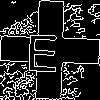E: (25, 25, 60, 72)
